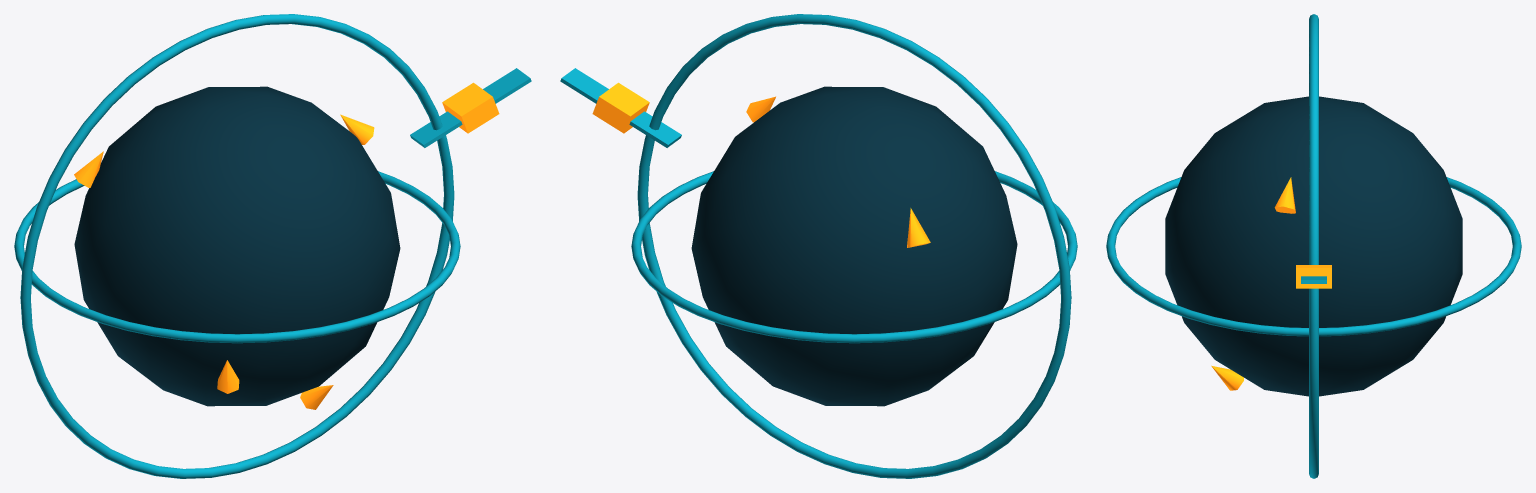
File: uika-ti-git-loop.glb
3 renders of one model, left to right at view 1: azimuth 30°, elevation 25°; view 2: azimuth 150°, elevation 25°; view 3: azimuth 270°, elevation 25°, orthographic. The views are drawn at different scales.
Parts seen in each view (by area): view 1: GIT_DEM_Globe, git_secondary_rings, git_accent_nodes; view 2: GIT_DEM_Globe, git_secondary_rings, git_accent_nodes; view 3: GIT_DEM_Globe, git_secondary_rings, git_accent_nodes, GIT_RTK_Beacon_1.
Part boxes in pixels (x1=…): GIT_DEM_Globe: x1=74, y1=86, x2=400, y2=406; git_secondary_rings: x1=14, y1=14, x2=460, y2=478; git_accent_nodes: x1=410, y1=68, x2=531, y2=147; GIT_DEM_Globe: x1=691, y1=86, x2=1017, y2=406; git_secondary_rings: x1=631, y1=14, x2=1077, y2=478; git_accent_nodes: x1=560, y1=68, x2=681, y2=147; GIT_DEM_Globe: x1=1165, y1=96, x2=1462, y2=396; git_secondary_rings: x1=1106, y1=14, x2=1521, y2=478; git_accent_nodes: x1=1296, y1=265, x2=1331, y2=288; GIT_RTK_Beacon_1: x1=1274, y1=177, x2=1295, y2=213.
Bounding box in the file's own units: 4.21 × 3.62 × 3.23.
